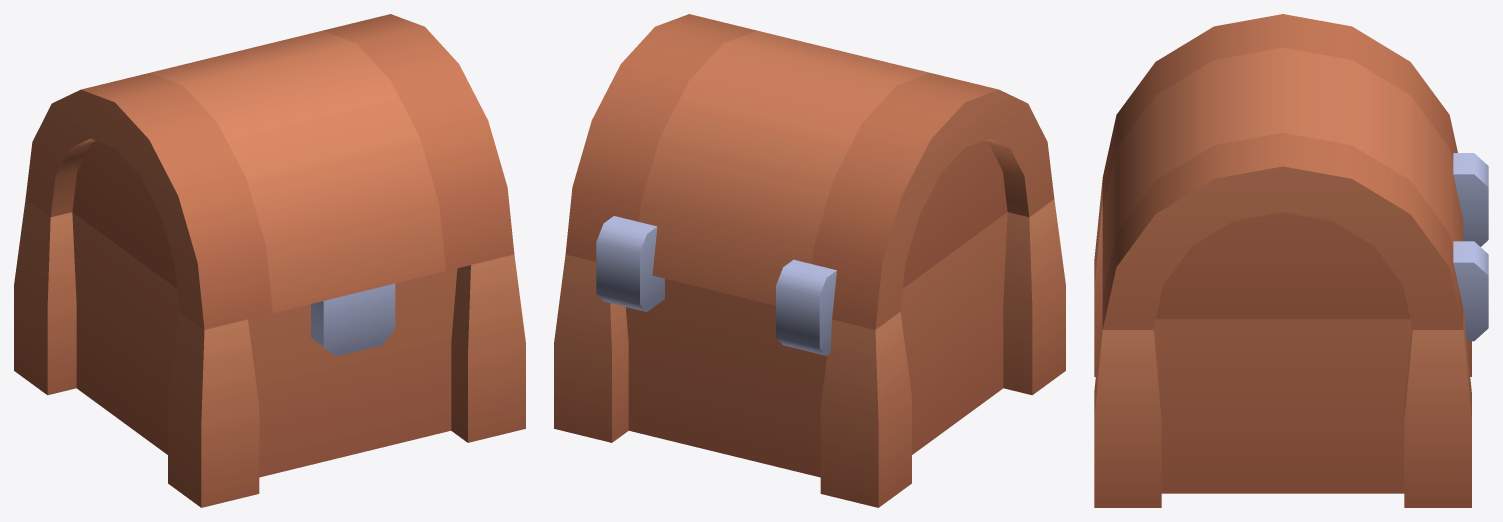
The model's file is chest.glb.
3 views of the same model, side by side, from view 1: azimuth 30°, elevation 25°; view 2: azimuth 150°, elevation 25°; view 3: azimuth 270°, elevation 25° (orthographic).
Parts seen in each view (by area): view 1: lid, chest; view 2: lid, chest; view 3: lid, chest.
Boxes of the visible parts, bbox=[...] form: lid: bbox=[25, 14, 514, 356]; chest: bbox=[14, 199, 525, 507]; lid: bbox=[565, 14, 1054, 329]; chest: bbox=[554, 199, 1065, 507]; lid: bbox=[1102, 14, 1463, 329]; chest: bbox=[1094, 153, 1488, 507].
Bounding box in the file's own units: 0.2604 × 0.2572 × 0.272.
Materials: 1 (1 with a texture image).
